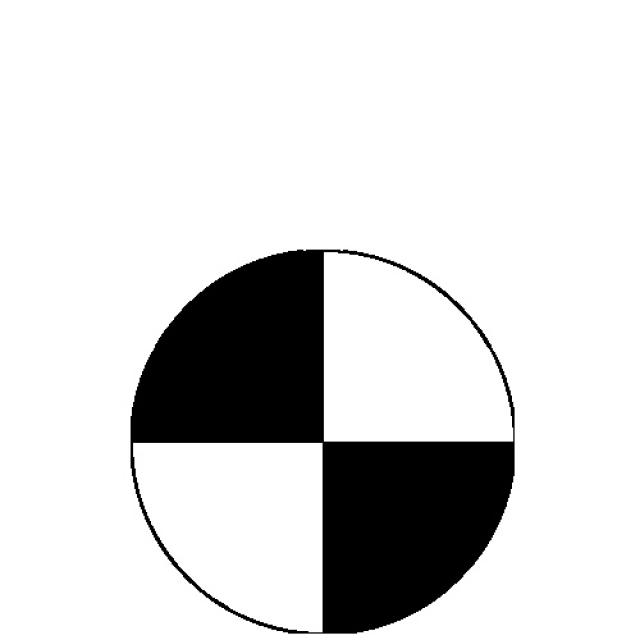Marcadores: (133, 251, 515, 635)
